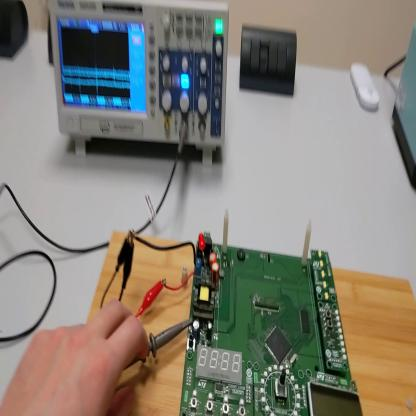hand: (1, 301, 150, 416)
low voltage board: (132, 223, 362, 414)
oscilloscope: (49, 2, 227, 166)
oscilloscope probe tip: (130, 313, 193, 364)
socket: (1, 1, 31, 60), (48, 13, 55, 67)
welder station: (392, 24, 416, 193)
working area: (89, 228, 413, 413)
